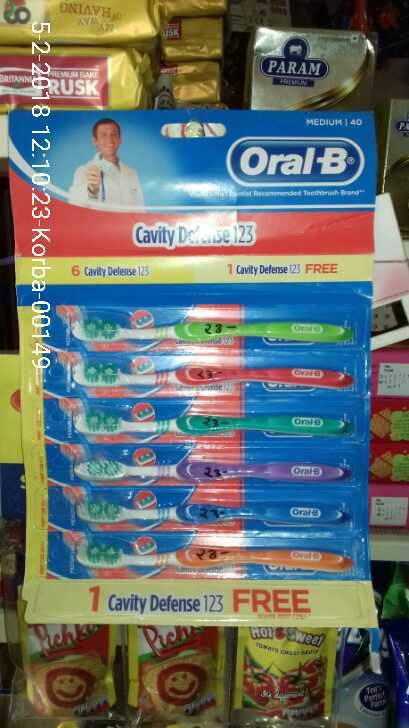oralb: (59, 529, 356, 577), (63, 351, 360, 397), (63, 435, 347, 483), (66, 392, 352, 439), (78, 483, 354, 528), (61, 303, 350, 344)
